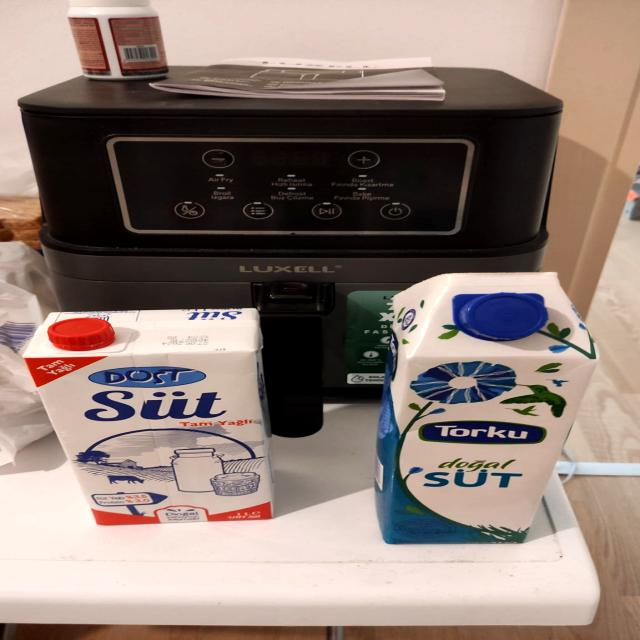milk: (357, 256, 601, 552), (17, 302, 314, 528)
